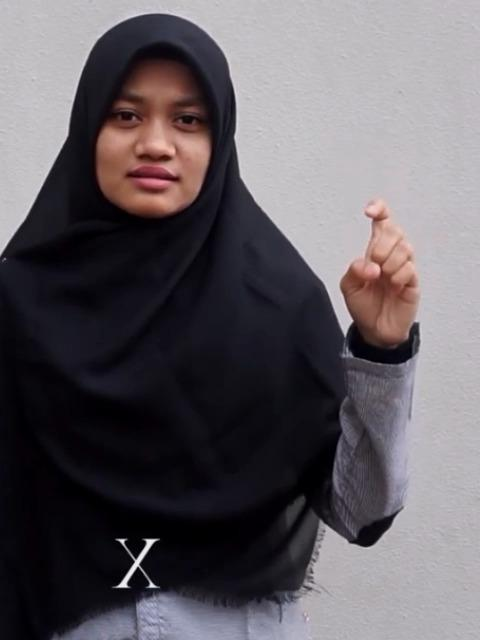X: (332, 193, 426, 347)
